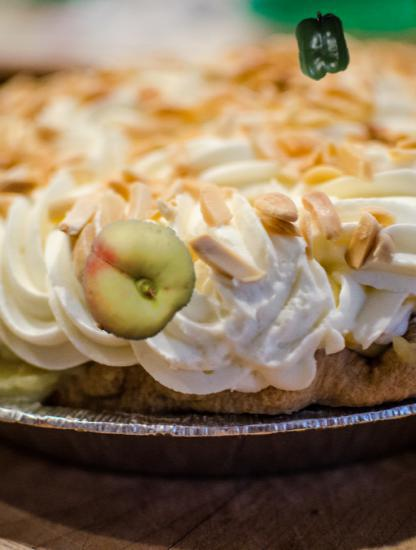Peach: (75, 218, 199, 342)
Pepper: (288, 12, 356, 80)
